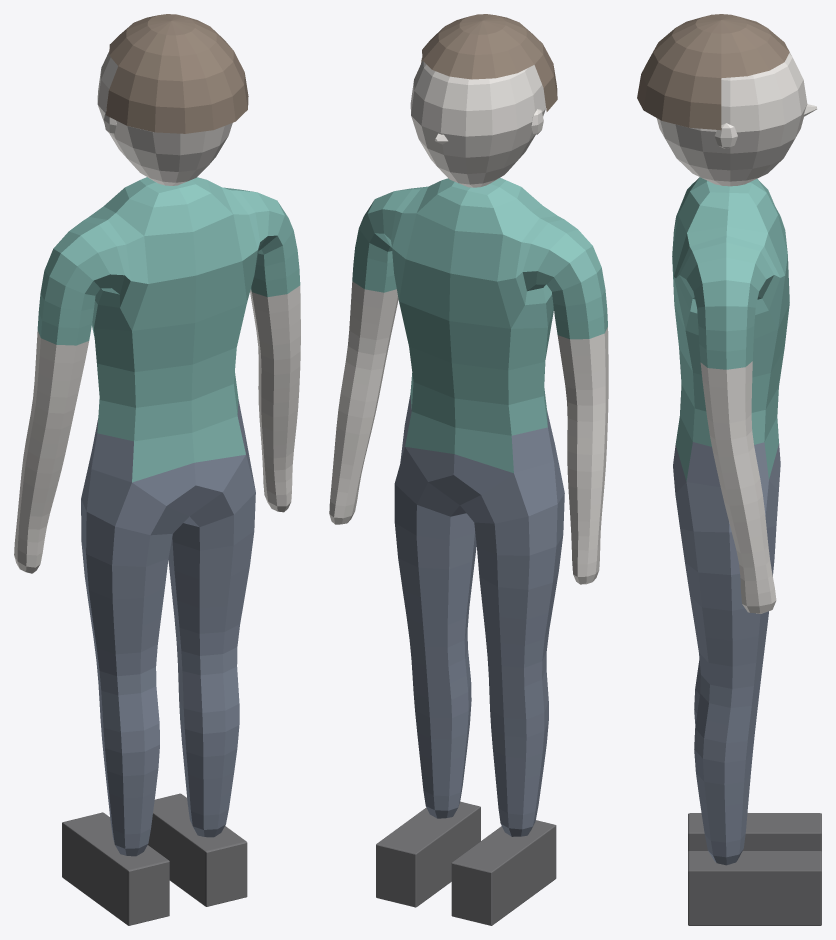
Rendered from boy.glb.
3 renders of one model, left to right at view 1: azimuth 30°, elevation 25°; view 2: azimuth 150°, elevation 25°; view 3: azimuth 270°, elevation 25°, orthographic. The views are drawn at different scales.
Visible parts, largest first — view 1: boy; view 2: boy; view 3: boy.
Boxes of the visible parts, x1,y1,x2,y2 form: boy: [14, 14, 300, 925]; boy: [329, 14, 608, 925]; boy: [637, 14, 821, 925].
Size of the model in its own units: 0.4184 by 1.3 by 0.2475.
